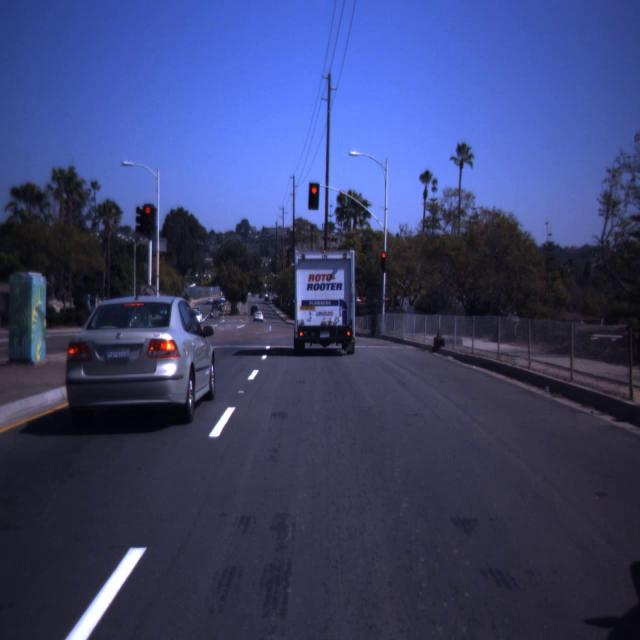stop: (142, 206, 154, 230), (308, 186, 320, 210), (380, 252, 388, 270)
stop traffic light: (142, 206, 154, 230), (308, 186, 320, 210), (380, 252, 388, 270)
